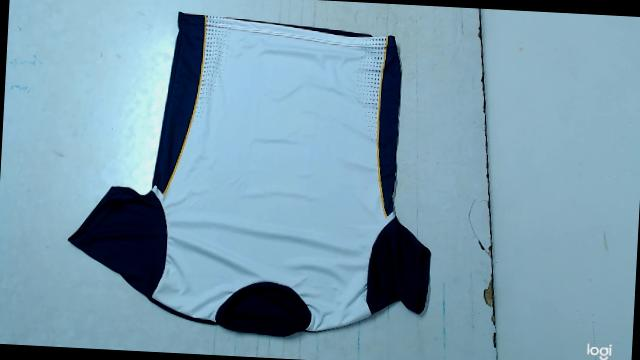new-garment: (69, 13, 429, 335)
